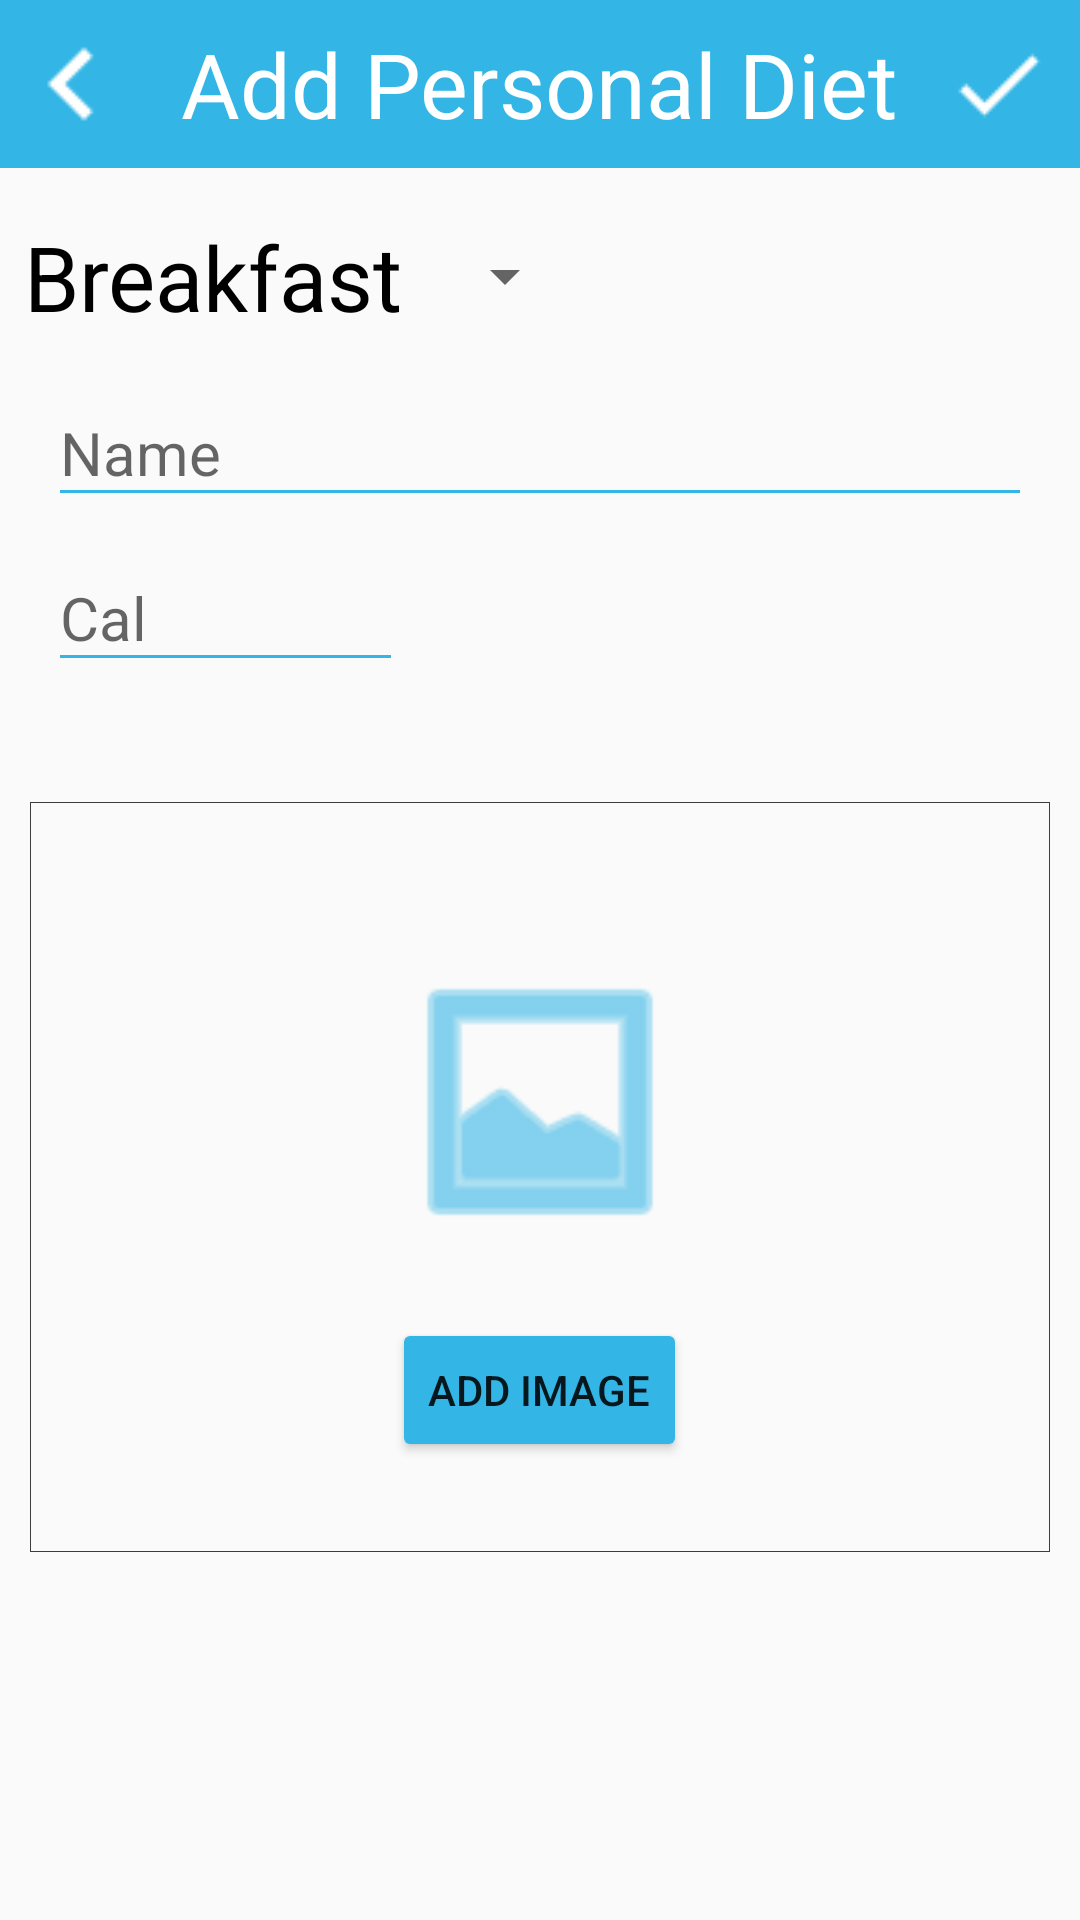

Named icons in this screenshot (1080*1920) and their bounding boxes, (x1, y1, x2, y2):
check: (958, 54, 1040, 117)
chevron left: (47, 47, 94, 121)
